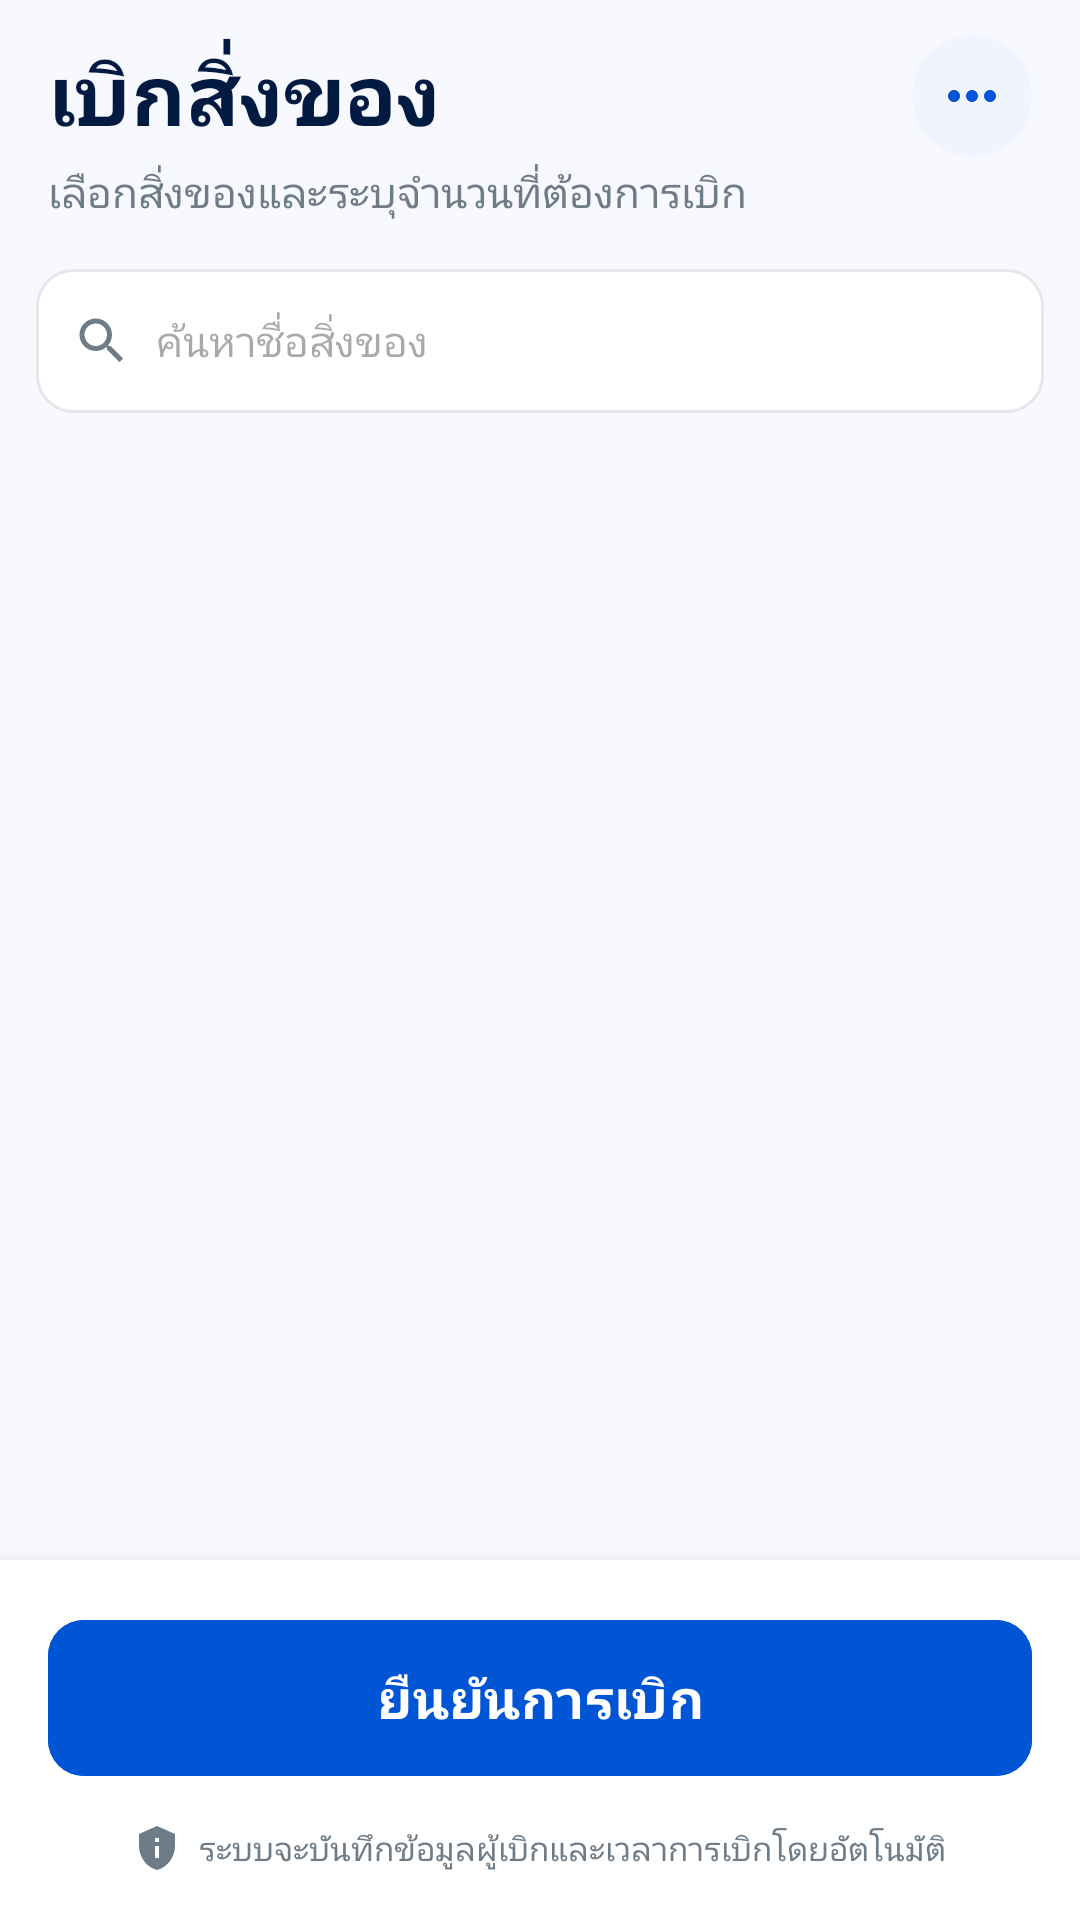

Icon bounding boxes for this 1080×1920 phone screenshot, format (x1, y1, x2, y2):
Menu: (948, 90, 996, 102)
Search: (79, 318, 123, 362)
Shield: (139, 1826, 175, 1870)
